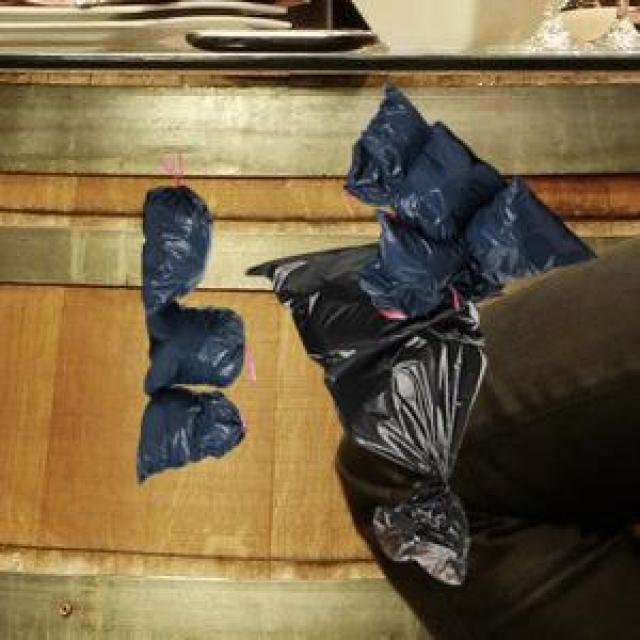waste: (248, 86, 592, 584), (139, 186, 245, 479)
